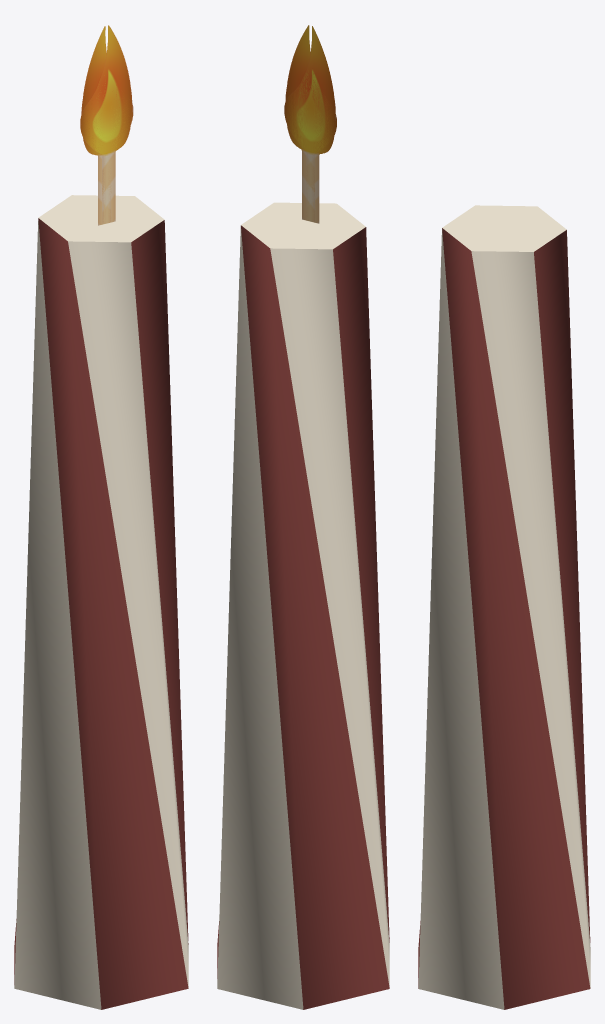
Rendered from Candle_B_04.FBX.
3 views of the same model, side by side, from view 1: azimuth 30°, elevation 25°; view 2: azimuth 150°, elevation 25°; view 3: azimuth 270°, elevation 25° (orthographic).
Parts seen in each view (by area): view 1: Candle; view 2: Candle; view 3: Candle.
Part boxes in pixels (x1,y1,x2,y2): Candle: (14,25,188,1009); Candle: (217,25,389,1009); Candle: (418,205,590,1009).
Bounding box in the file's own units: 7.85 × 40.96 × 6.8.
